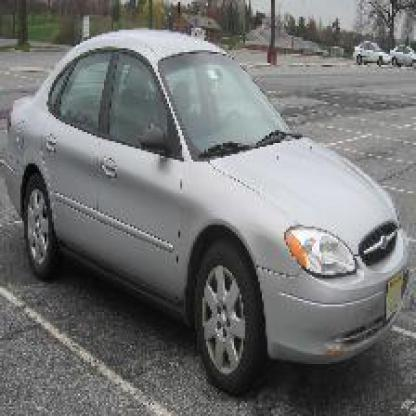not_emergency: (4, 32, 414, 380)
